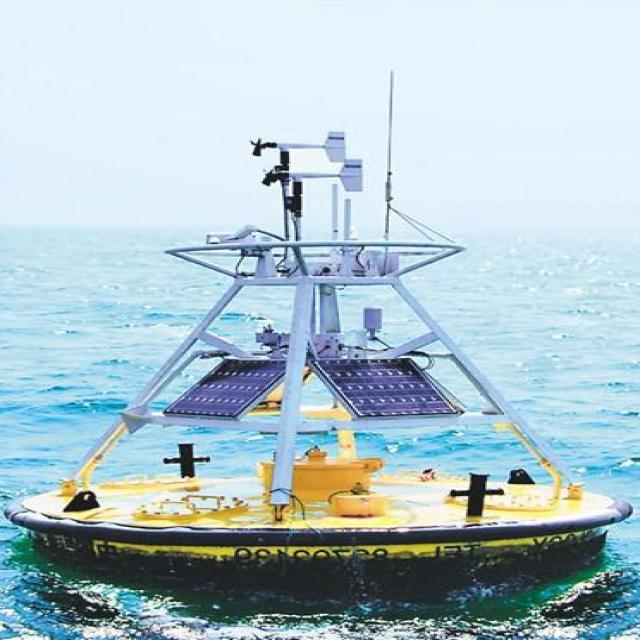buoy: (3, 100, 640, 573)
